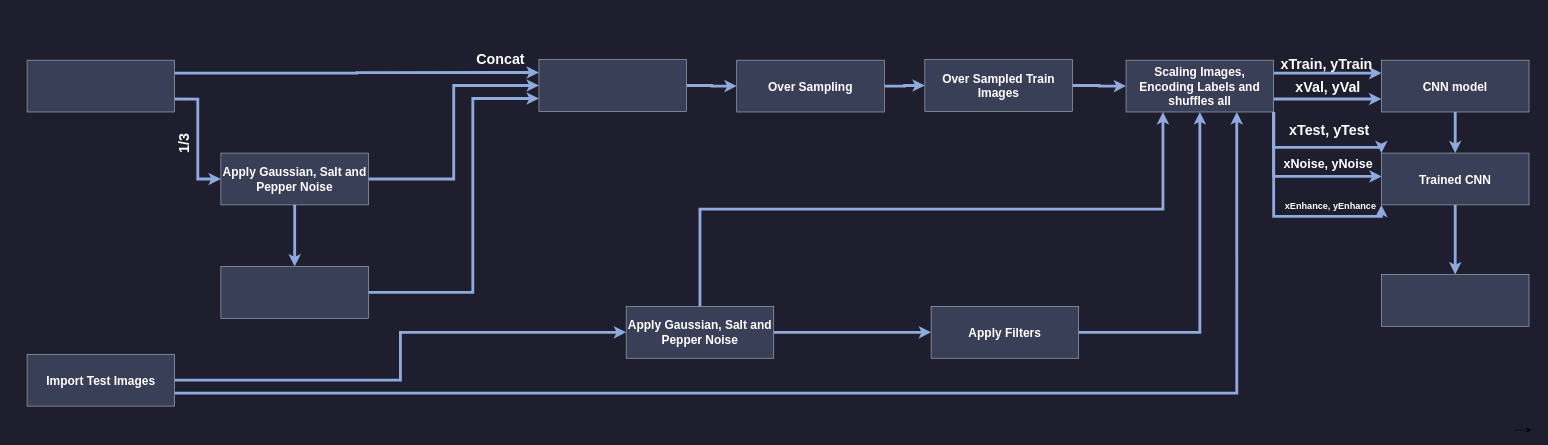
Some shapes in this 1548 by 445 pixel diagram are drawn without their labels. The shapes that lost their labels are listed below. From the top down, each one's box as (x1, y1, x2, y2) in pixels, then its label:
(27, 60, 175, 112): Import Train Images
(538, 59, 687, 111): Augmented Train Images
(220, 266, 369, 318): Apply Median, Gaussian and unsharp filters
(1381, 274, 1529, 326): Classification Report Confusion Matrix
